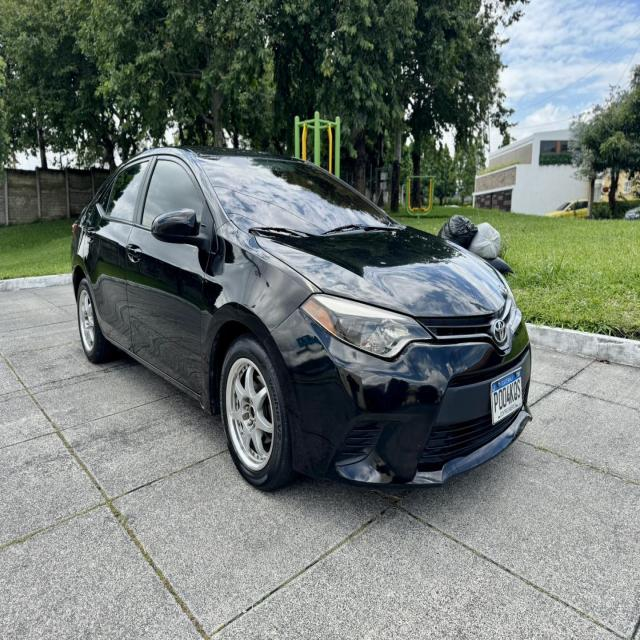Placas: (485, 363, 526, 428)
